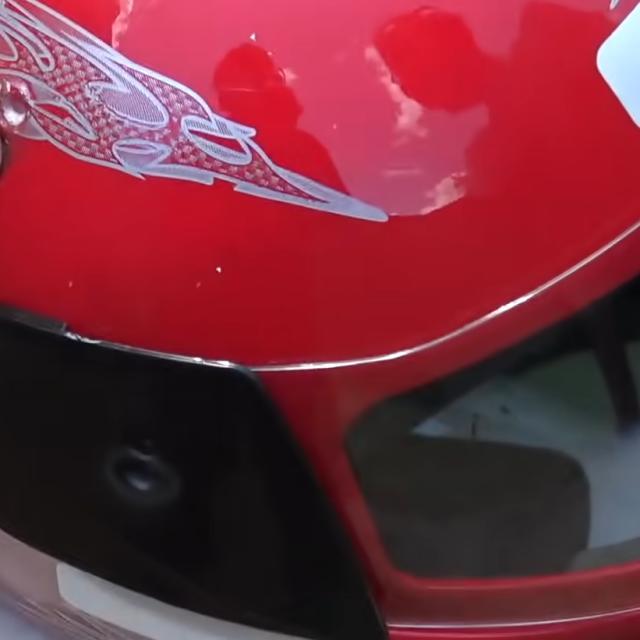bullets: (96, 442, 184, 514), (0, 82, 40, 130)
